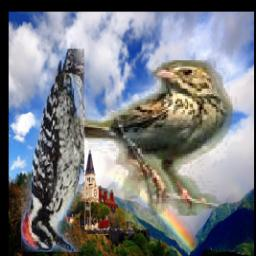Sparrow: (53, 61, 239, 217)
Woodpecker: (21, 49, 84, 252)
